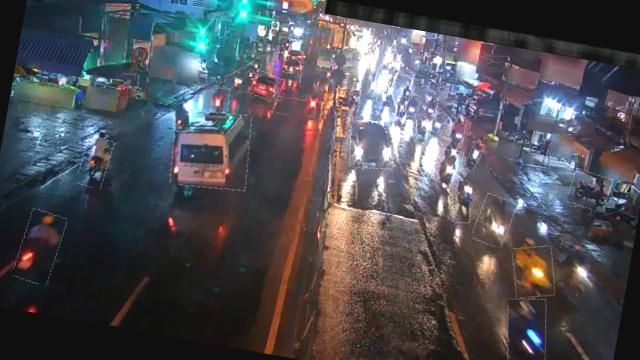Bike: (14, 207, 66, 286), (498, 295, 555, 360), (507, 241, 560, 302), (472, 193, 516, 248), (566, 168, 612, 212), (77, 134, 113, 188), (448, 178, 475, 224), (436, 149, 464, 188), (170, 101, 194, 133), (332, 86, 362, 111), (465, 140, 484, 172), (210, 86, 231, 114), (450, 116, 467, 150), (428, 110, 448, 136), (412, 114, 429, 144), (404, 93, 422, 118), (393, 96, 408, 120), (426, 96, 439, 116)
Bus: (166, 105, 256, 195)
Car: (345, 116, 399, 173), (250, 70, 284, 102)
